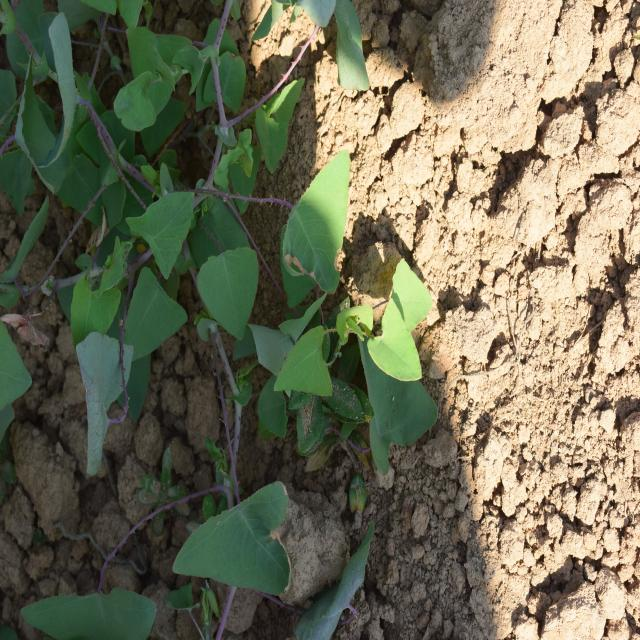Asiatic_Smartweed: (254, 151, 437, 459), (94, 168, 259, 364)
